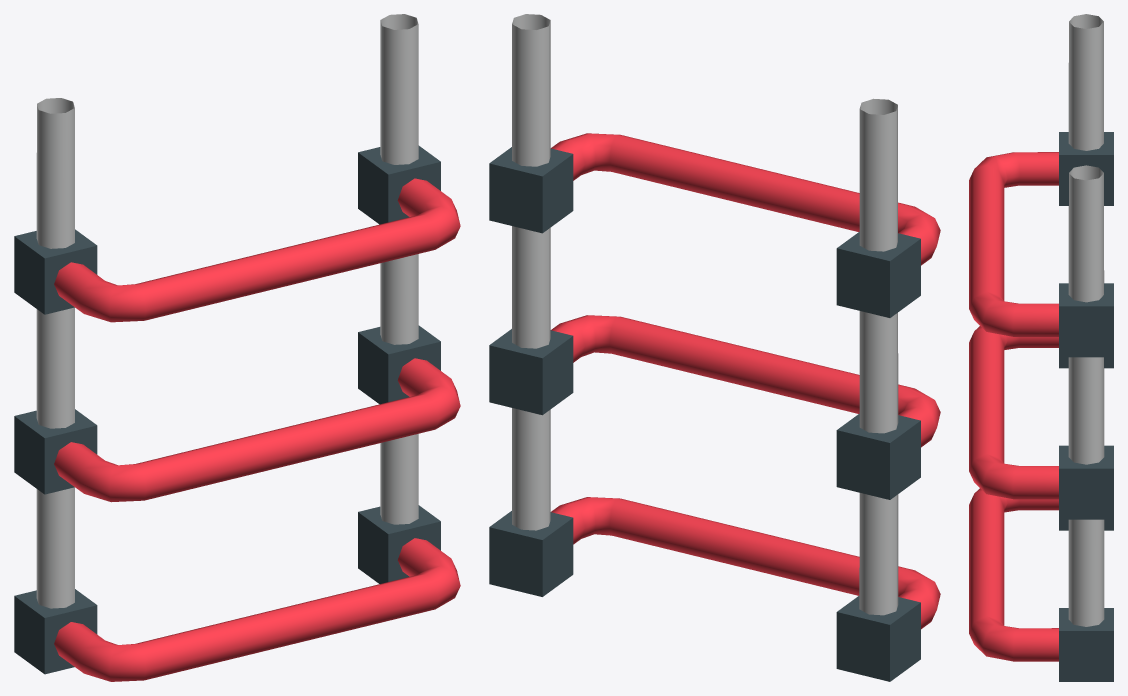
Rendered from Ladder_short_001.glb.
3 renders of one model, left to right at view 1: azimuth 30°, elevation 25°; view 2: azimuth 150°, elevation 25°; view 3: azimuth 270°, elevation 25°, orthographic. The views are drawn at different scales.
Parts seen in each view (by area): view 1: Ladder_short_001; view 2: Ladder_short_001; view 3: Ladder_short_001.
Part boxes in pixels (left/top/right/bottom): Ladder_short_001: left=14, top=14, right=460, bottom=681; Ladder_short_001: left=489, top=14, right=940, bottom=681; Ladder_short_001: left=969, top=14, right=1113, bottom=681.
Size of the model in its own units: 1.15 by 1.53 by 0.4042.
1 material, 1 textured.
